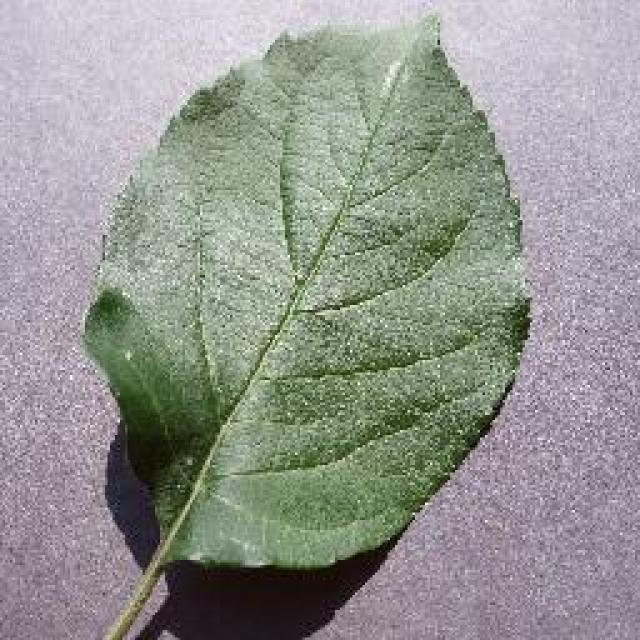apple healthy: (78, 10, 532, 575)
